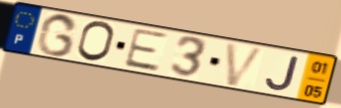3: (168, 34, 208, 79)
E: (121, 26, 170, 74)
G: (34, 13, 80, 59)
J: (263, 53, 302, 92)
O: (74, 20, 117, 64)
V: (224, 42, 268, 89)
